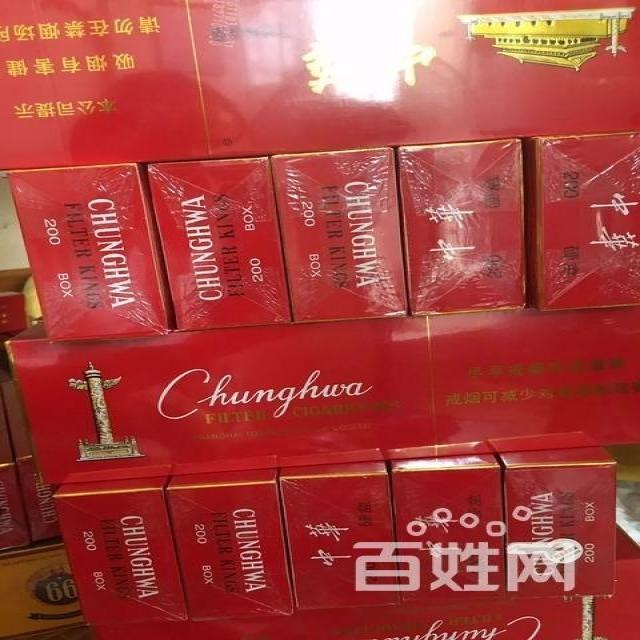box: (4, 305, 640, 485), (0, 0, 640, 169), (95, 521, 640, 640), (5, 165, 173, 344), (265, 147, 409, 326), (147, 156, 293, 331), (393, 136, 532, 318), (524, 133, 640, 311), (164, 469, 295, 622), (55, 477, 188, 627), (280, 460, 403, 610), (388, 454, 505, 606), (497, 449, 616, 597), (0, 372, 63, 542), (0, 390, 35, 551)
